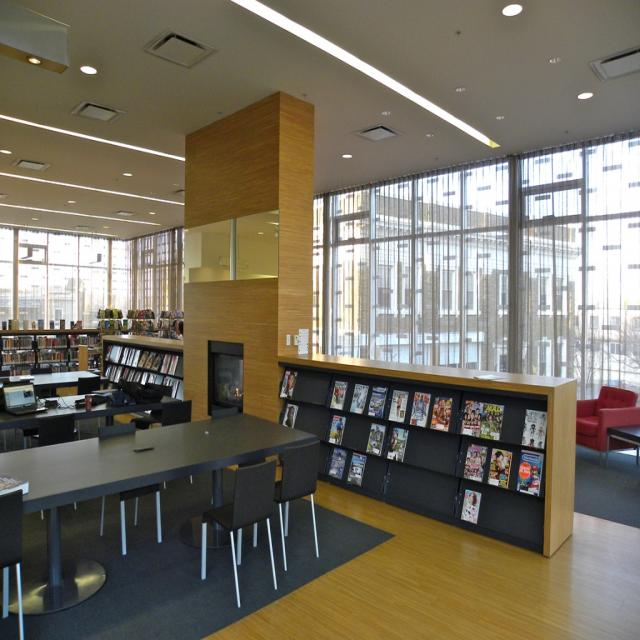chair: (200, 457, 285, 609), (274, 435, 320, 564), (118, 424, 164, 552), (574, 386, 640, 466), (0, 488, 25, 640), (161, 398, 193, 427)
desk: (0, 408, 318, 614)
laptop: (3, 383, 39, 414)
